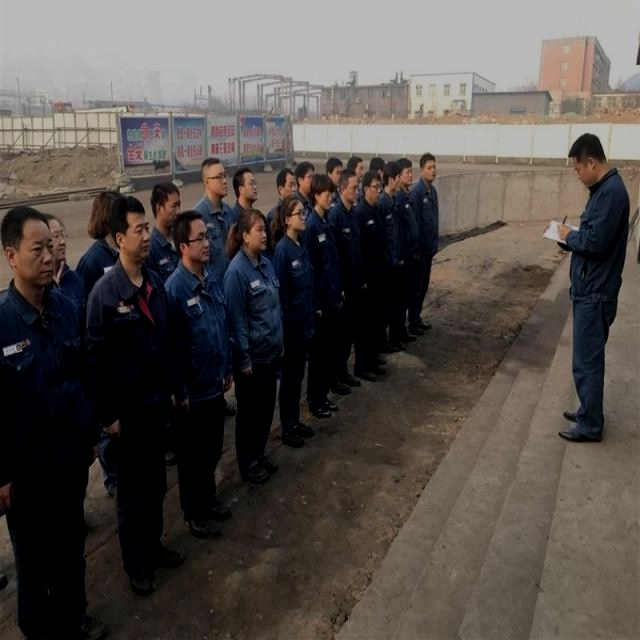Sin_Casco_Mascarrilla: (171, 212, 212, 272), (569, 132, 610, 189), (236, 210, 269, 250)
